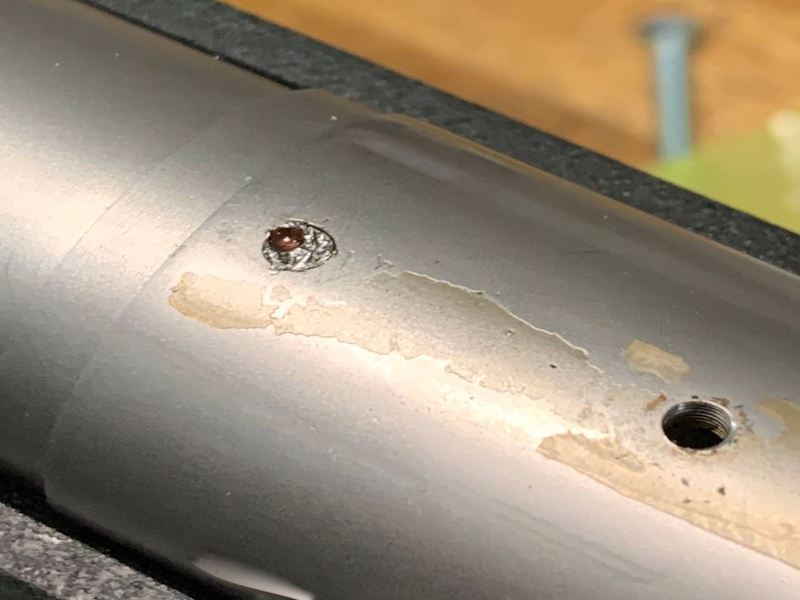hole: (659, 396, 738, 454)
